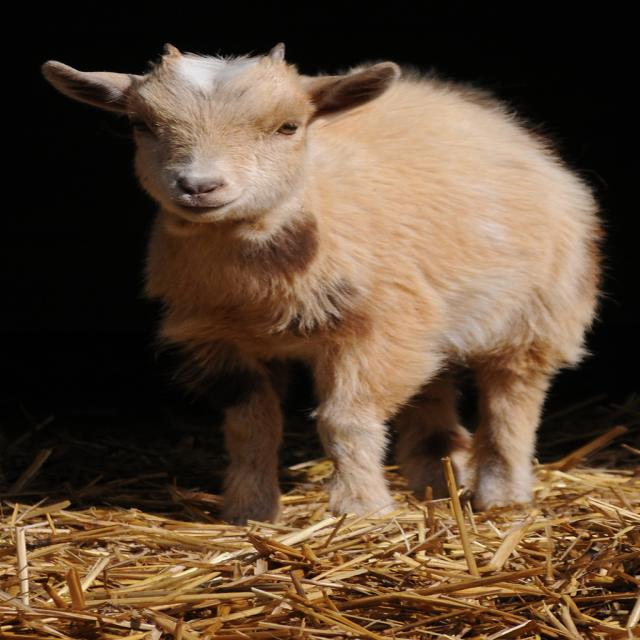Goat: (40, 41, 601, 524)
